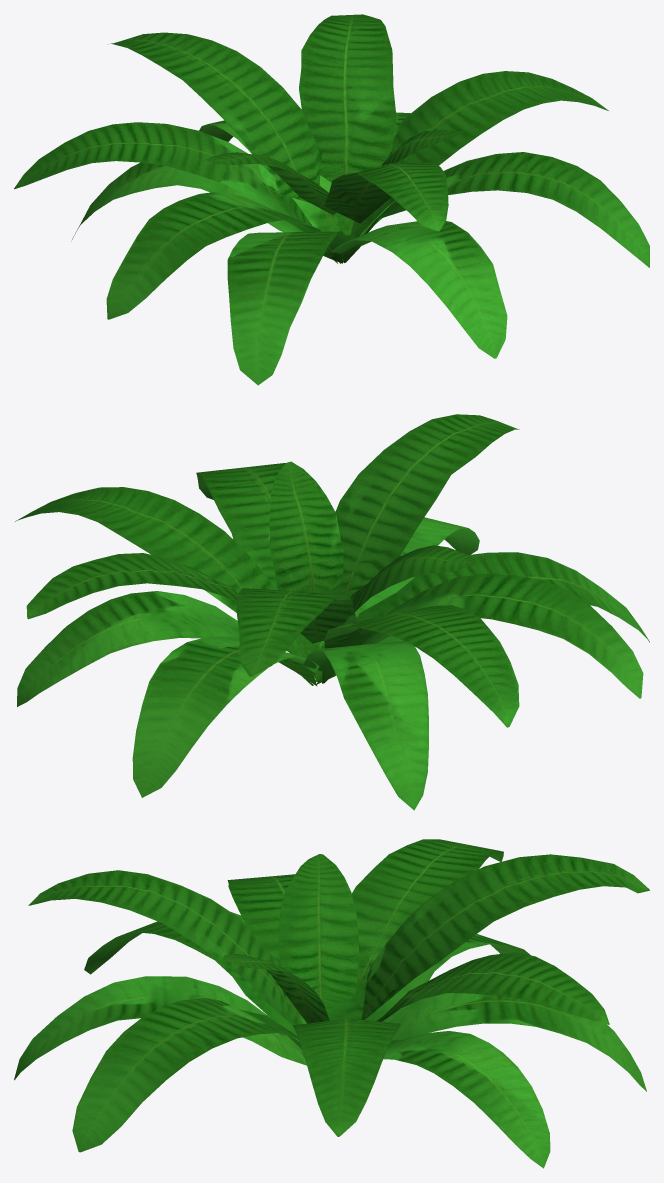
Rendered from fern.glb.
3 views of the same model, one above another, from view 1: azimuth 30°, elevation 25°; view 2: azimuth 150°, elevation 25°; view 3: azimuth 270°, elevation 25° (orthographic). The views are drawn at different scales.
Size of the model in its own units: 0.9653 by 0.2905 by 0.9038.
Materials: 1 (1 with a texture image).
